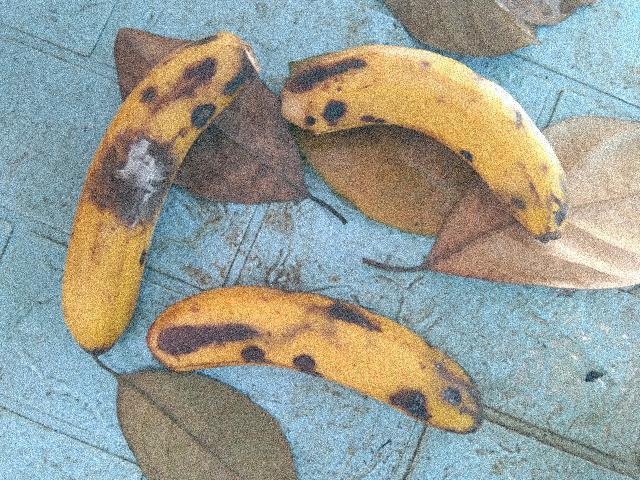overripe: (279, 31, 580, 270), (42, 14, 246, 351), (142, 257, 498, 449)
rotten: (70, 118, 214, 249)
